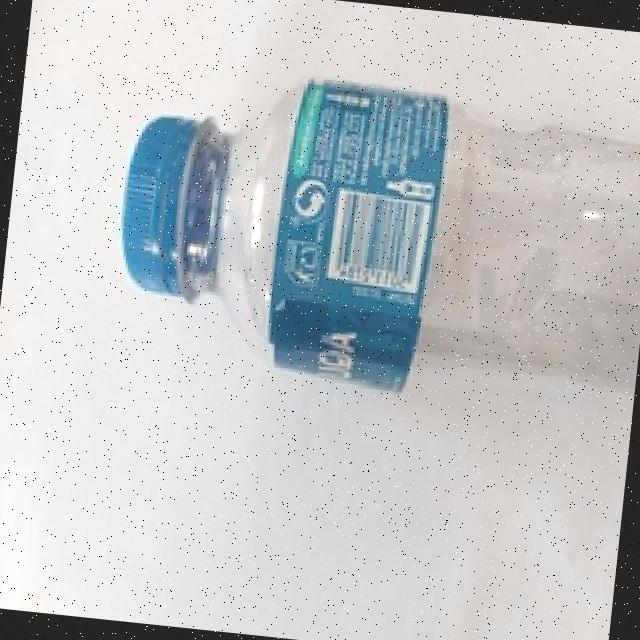bottle: (99, 55, 640, 414)
cap: (110, 100, 221, 300)
label: (246, 67, 467, 394)
